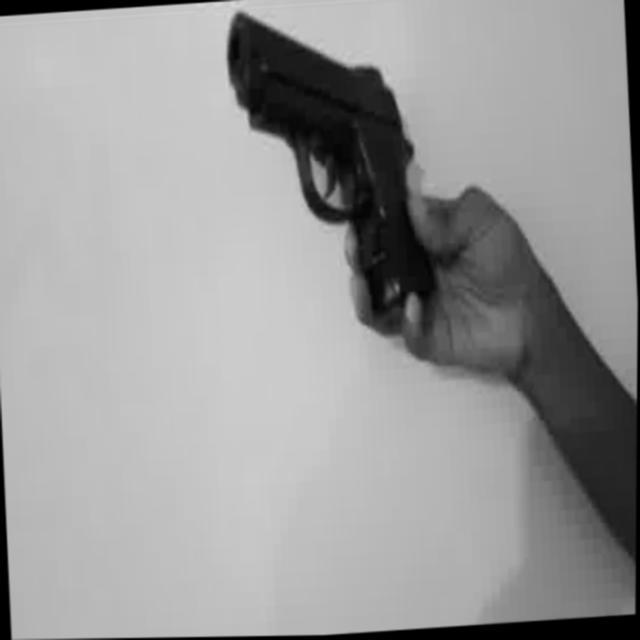weapon: (222, 0, 438, 333)
